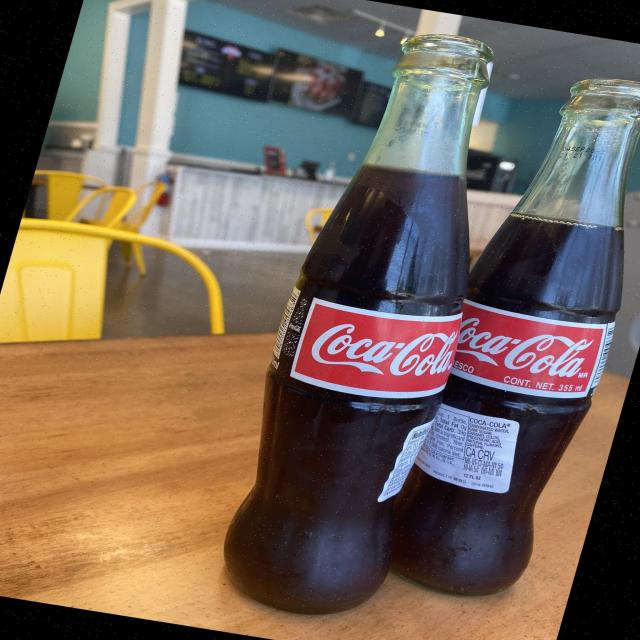coca-cola: (198, 15, 560, 634), (385, 52, 640, 614)
